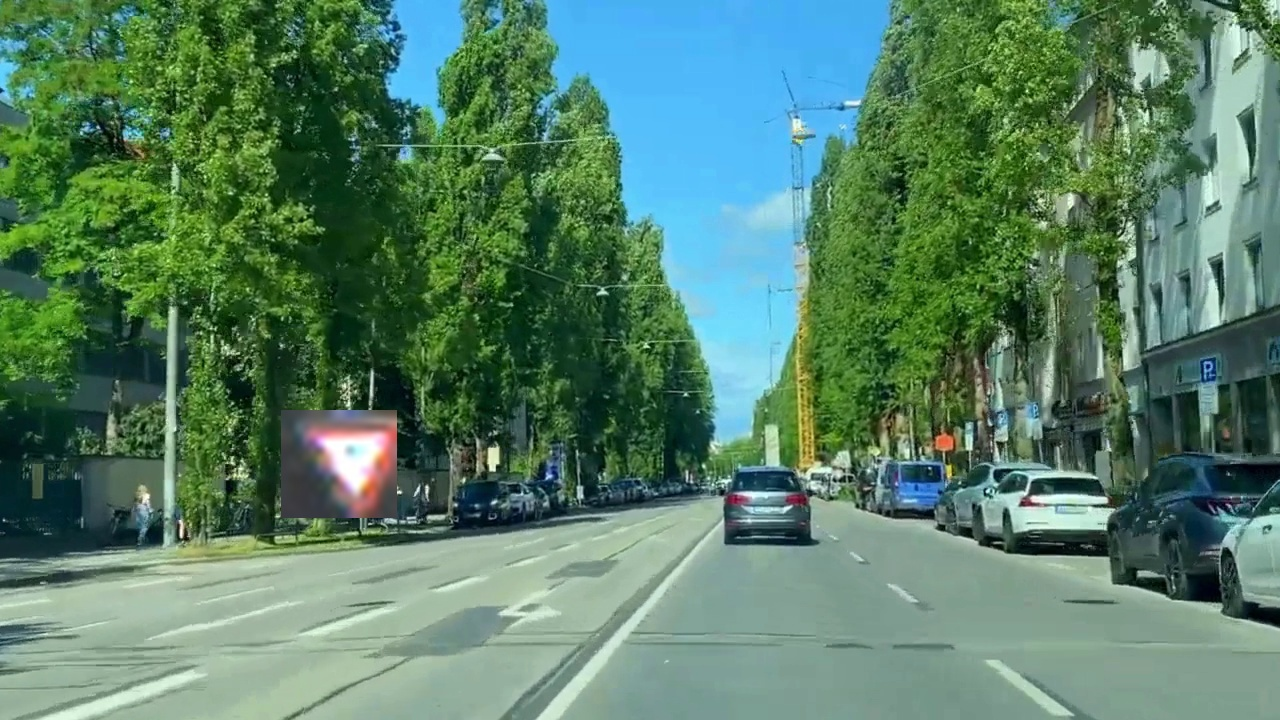Yield: (281, 410, 397, 518)
